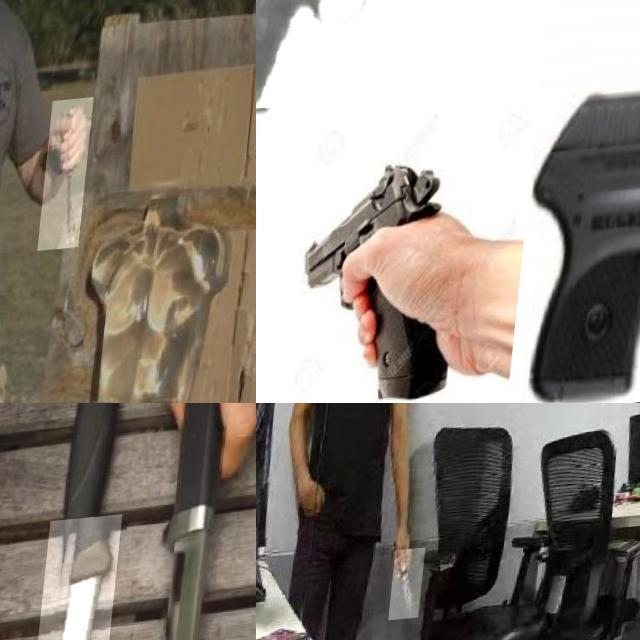-: (105, 403, 256, 640), (28, 517, 127, 640), (47, 106, 100, 260), (401, 554, 436, 626)
gun-knife-thesis - v11 Yolov5 augmented: (256, 0, 568, 154), (300, 148, 478, 403), (525, 79, 640, 403)
